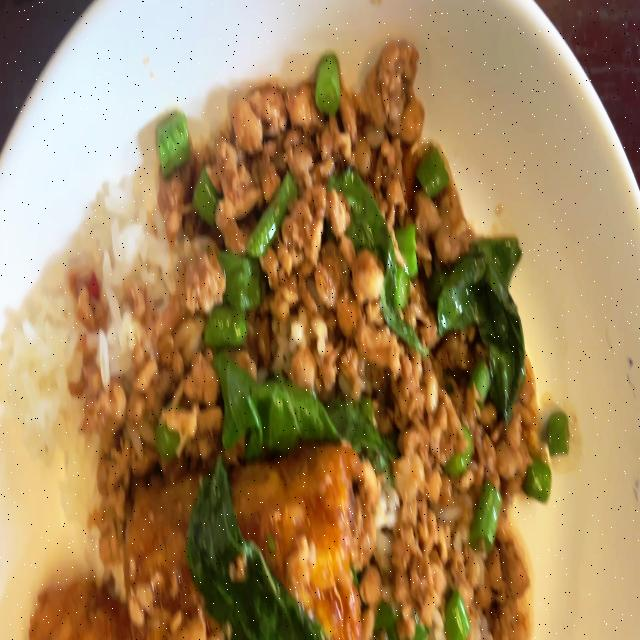fried_tofo: (127, 446, 377, 640), (31, 577, 126, 640)
minced_pork: (177, 39, 528, 354), (78, 352, 540, 442), (384, 432, 551, 640)
rice: (17, 286, 76, 486), (102, 200, 171, 362)
stir_fried_basil: (13, 42, 552, 640)
